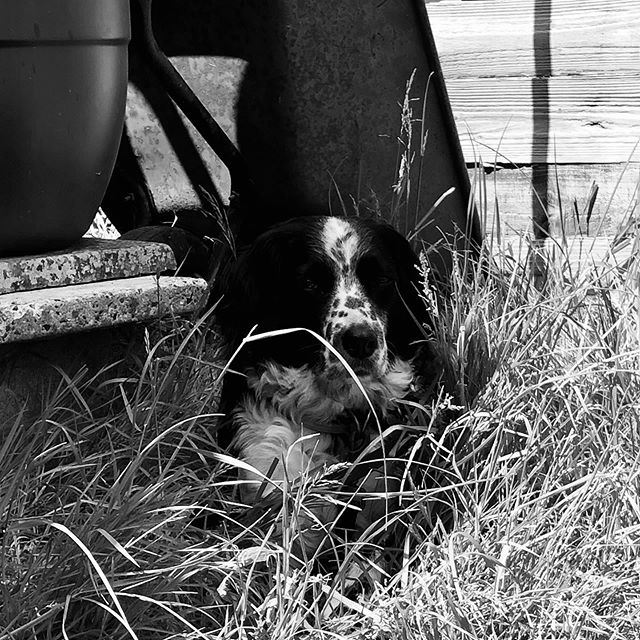animal: (215, 197, 481, 580)
